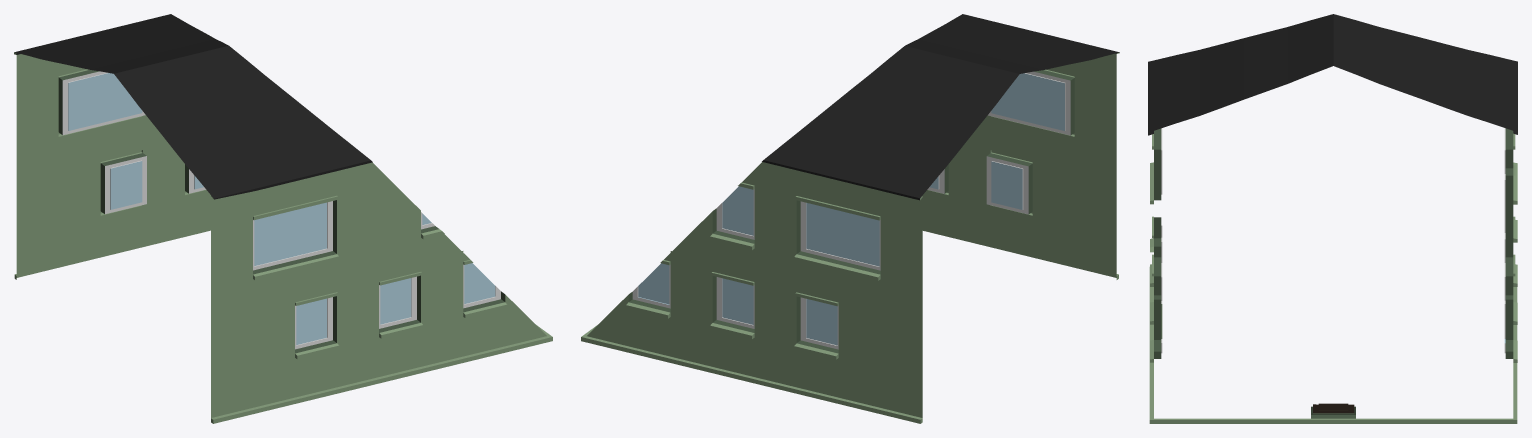
Rendered from House1_sliced.fbx.
The picture shows the model from 3 angles, left to right: view 1: azimuth 30°, elevation 25°; view 2: azimuth 150°, elevation 25°; view 3: azimuth 270°, elevation 25°; orthographic projection. The views are drawn at different scales.
Visible parts, largest first — view 1: House1_sliced; view 2: House1_sliced; view 3: House1_sliced.
Boxes of the visible parts, x1,y1,x2,y2 form: House1_sliced: (14,14,552,423); House1_sliced: (581,14,1119,423); House1_sliced: (1148,14,1517,423).
Bounding box in the file's own units: 1616 × 1261 × 1647.
